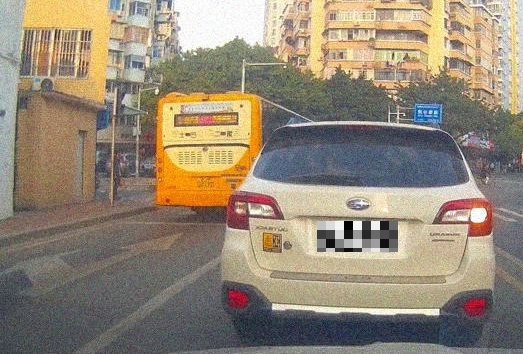L_light: (225, 190, 284, 230)
R_light: (432, 197, 493, 237)
T_light: (345, 124, 382, 129)
day-right: (220, 121, 495, 339)
plate_1: (317, 221, 398, 252)
